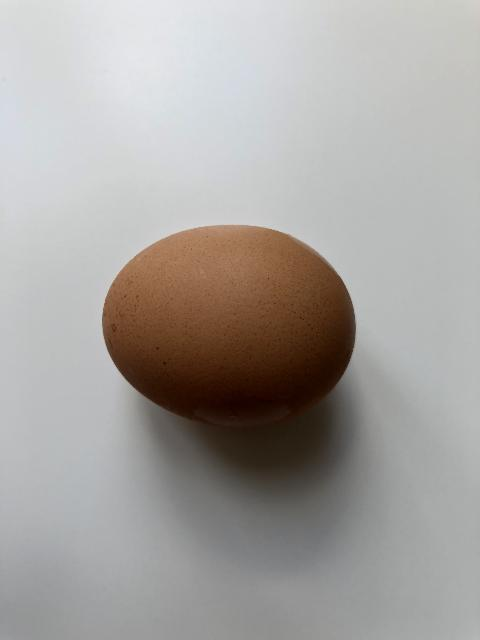Sano: (101, 223, 357, 430)
